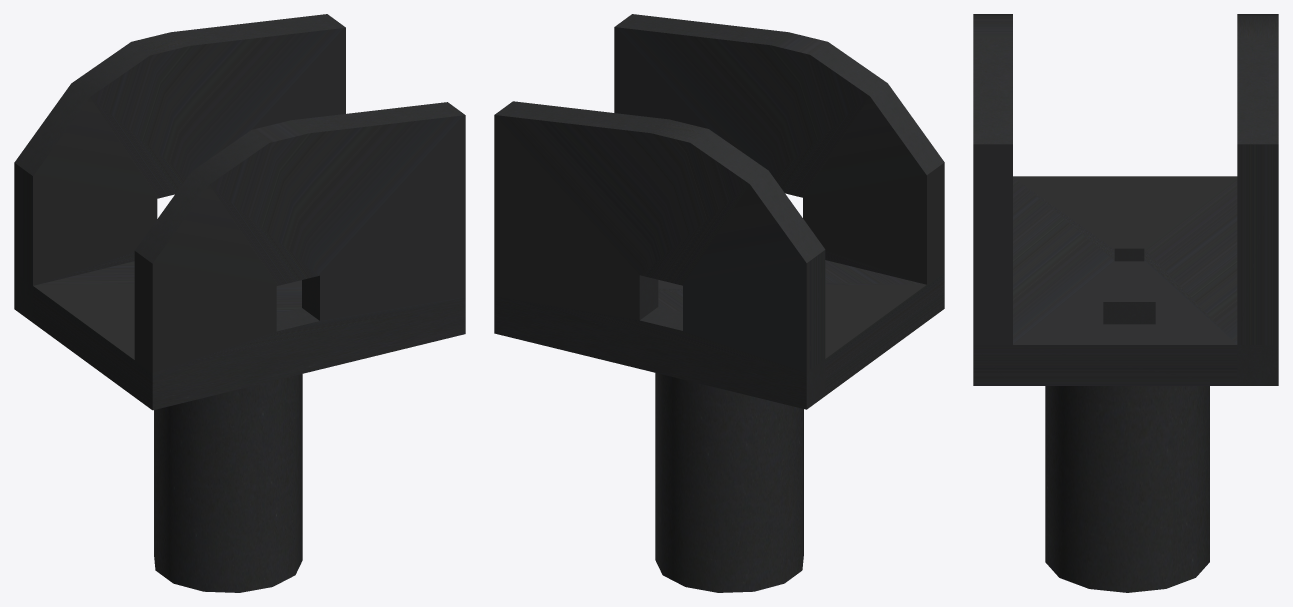
File: Rear_Sight_Base.dae
The picture shows the model from 3 angles, left to right: view 1: azimuth 30°, elevation 25°; view 2: azimuth 150°, elevation 25°; view 3: azimuth 270°, elevation 25°; orthographic projection. The views are drawn at different scales.
Visible parts, largest first — view 1: Rear_Sight_Base; view 2: Rear_Sight_Base; view 3: Rear_Sight_Base.
Boxes of the visible parts, x1=… form: Rear_Sight_Base: x1=14, y1=14, x2=465, y2=592; Rear_Sight_Base: x1=494, y1=14, x2=944, y2=592; Rear_Sight_Base: x1=973, y1=14, x2=1278, y2=592.
Size of the model in its own units: 0.0272 by 0.0208 by 0.0396.
1 material, 1 textured.
